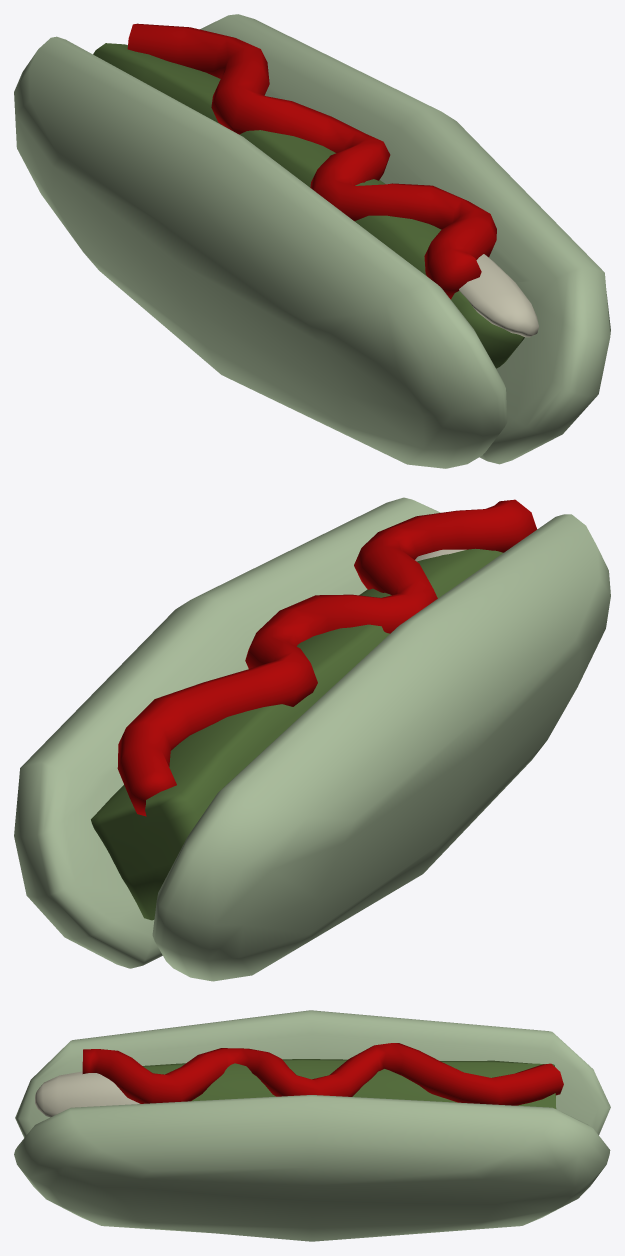
Rendered from hotdog.fbx.
3 renders of one model, top to bottom at view 1: azimuth 30°, elevation 25°; view 2: azimuth 150°, elevation 25°; view 3: azimuth 270°, elevation 25°, orthographic. The views are drawn at different scales.
Visible parts, largest first — view 1: pCube45, pCube6, pCylinder2, polySurface3, polySurface4; view 2: pCube45, pCube6, pCylinder2, polySurface3; view 3: pCube6, pCube45, pCylinder2, polySurface3, polySurface4.
Boxes of the visible parts, x1=… form: pCube45: x1=14, y1=36, x2=507, y2=468; pCube6: x1=200, y1=14, x2=610, y2=464; pCylinder2: x1=127, y1=23, x2=496, y2=299; polySurface3: x1=93, y1=43, x2=524, y2=368; polySurface4: x1=459, y1=254, x2=538, y2=337; pCube45: x1=152, y1=514, x2=610, y2=981; pCube6: x1=14, y1=497, x2=440, y2=968; pCylinder2: x1=117, y1=499, x2=537, y2=816; polySurface3: x1=91, y1=548, x2=503, y2=920; pCube6: x1=14, y1=1095, x2=610, y2=1241; pCube45: x1=15, y1=1010, x2=610, y2=1137; pCylinder2: x1=82, y1=1043, x2=563, y2=1105; polySurface3: x1=143, y1=1059, x2=556, y2=1108; polySurface4: x1=35, y1=1071, x2=139, y2=1117.
Size of the model in its own units: 0.3619 by 0.2952 by 0.8641.
